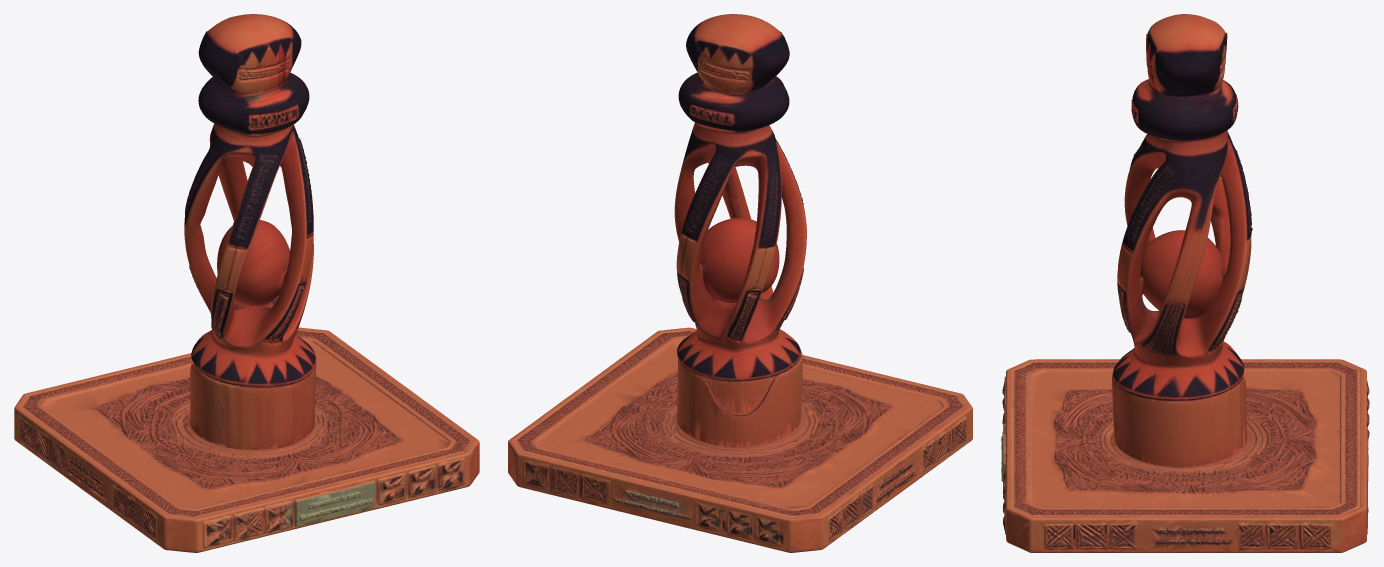
The model's file is americasChamp.glb.
The picture shows the model from 3 angles, left to right: view 1: azimuth 30°, elevation 25°; view 2: azimuth 150°, elevation 25°; view 3: azimuth 270°, elevation 25°; orthographic projection. The views are drawn at different scales.
Parts seen in each view (by area): view 1: mesh_node; view 2: mesh_node; view 3: mesh_node.
Boxes of the visible parts, x1,y1,x2,y2 form: mesh_node: (14,14,479,552); mesh_node: (508,14,972,552); mesh_node: (1001,14,1369,552).
Bounding box in the file's own units: 1.44 × 1.9 × 1.4.
1 material, 1 textured.
